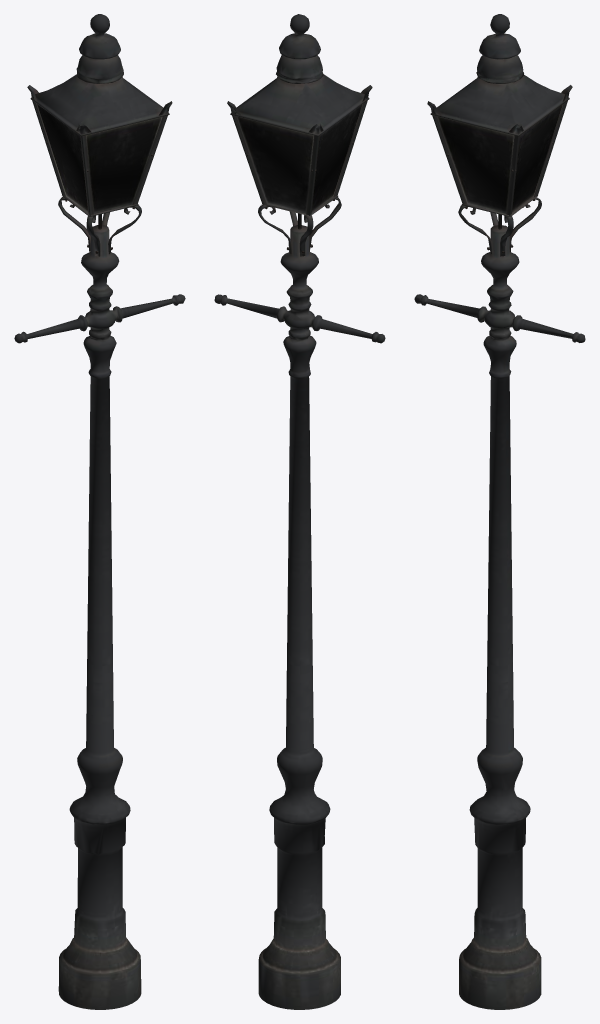
File: street_lamp_01.gltf
3 views of the same model, side by side, from view 1: azimuth 30°, elevation 25°; view 2: azimuth 150°, elevation 25°; view 3: azimuth 330°, elevation 25° (orthographic).
Parts seen in each view (by area): view 1: street_lamp_01; view 2: street_lamp_01; view 3: street_lamp_01.
Boxes of the visible parts, x1,y1,x2,y2 form: street_lamp_01: [14, 14, 185, 1009]; street_lamp_01: [214, 14, 385, 1009]; street_lamp_01: [414, 14, 585, 1009].
Bounding box in the file's own units: 0.7034 × 3.87 × 0.3844.
Materials: 3 (3 with a texture image).
